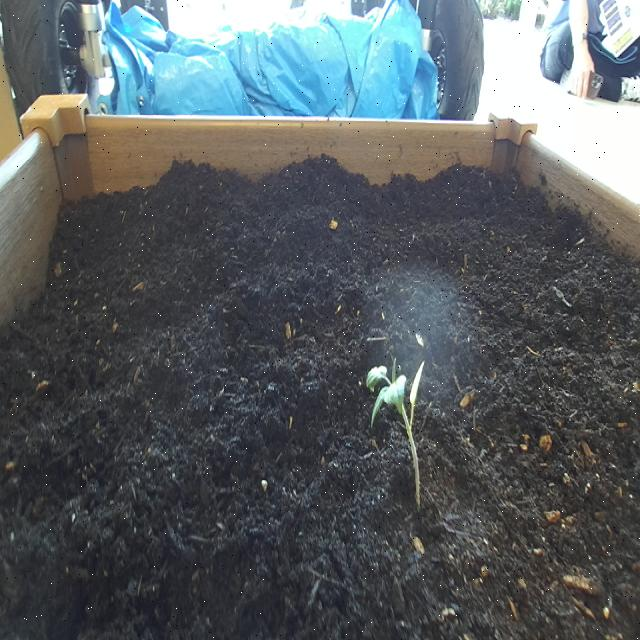Healthy: (366, 353, 440, 514)
